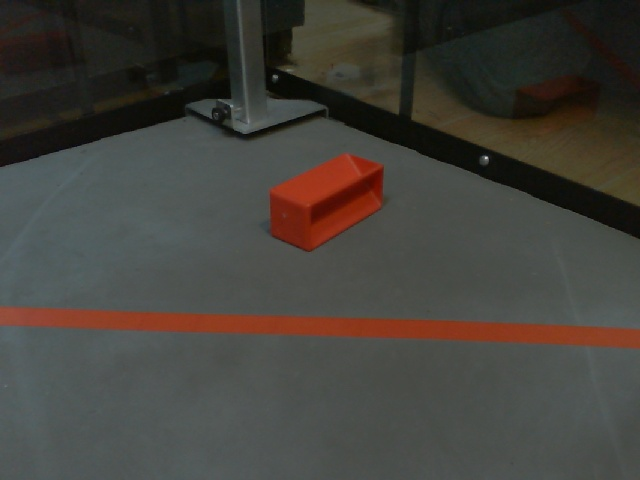RedSample: (268, 151, 389, 255)
